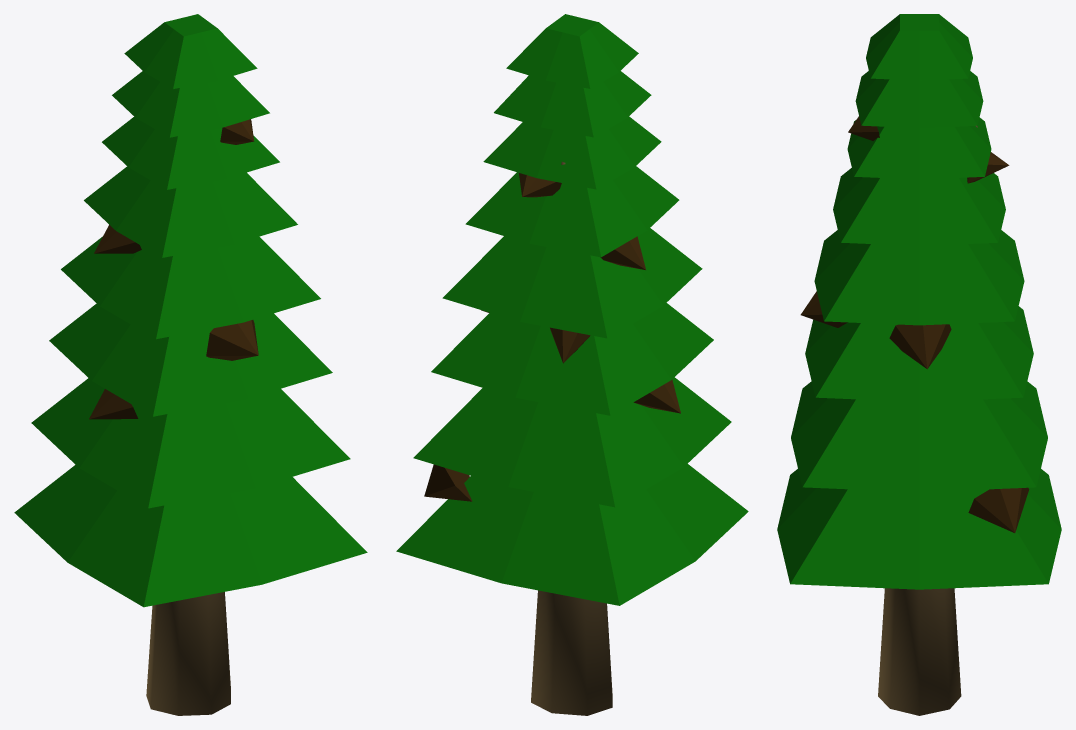
The model's file is pine_tree.glb.
3 renders of one model, left to right at view 1: azimuth 30°, elevation 25°; view 2: azimuth 150°, elevation 25°; view 3: azimuth 270°, elevation 25°, orthographic.
Parts seen in each view (by area): view 1: leaf, body, fruit; view 2: leaf, body, fruit; view 3: leaf, body, fruit.
Boxes of the visible parts, x1,y1,x2,y2 form: leaf: (14,14,367,607); body: (146,592,230,715); fruit: (89,119,258,419); leaf: (396,14,748,605); body: (531,590,612,715); fruit: (424,173,680,501); leaf: (777,14,1061,589); body: (878,588,961,715); fruit: (800,116,1029,532).
Size of the model in its own units: 0.3834 by 1 by 0.3834.
